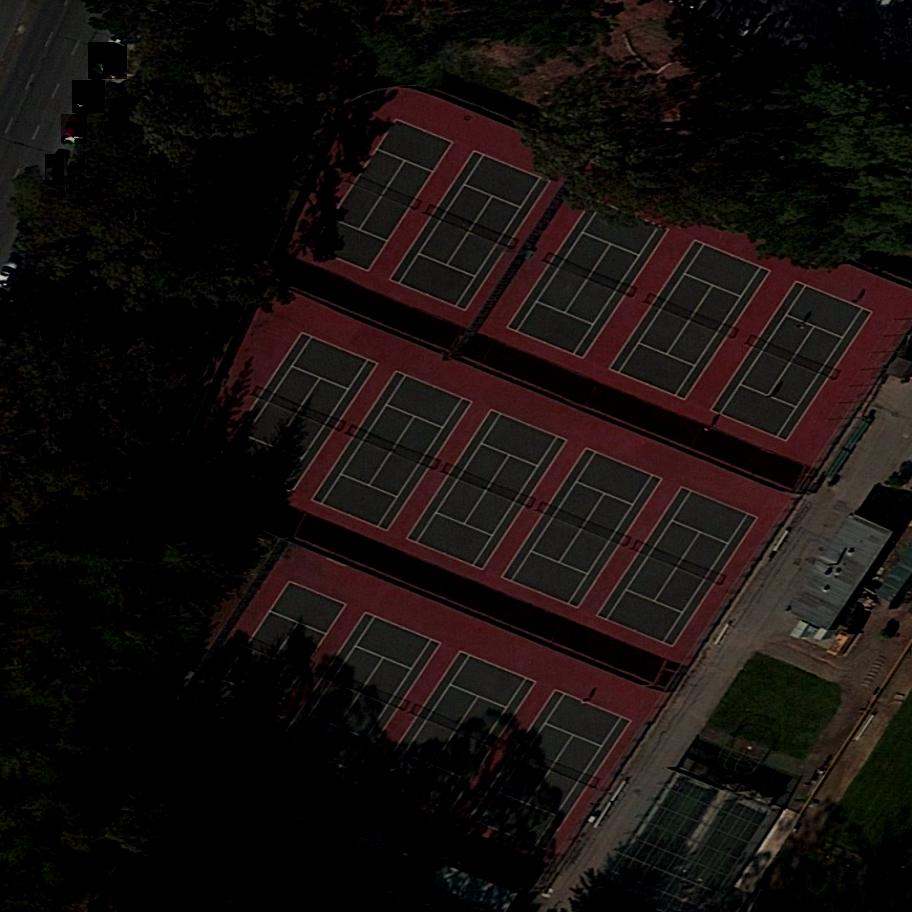small-vehicle: (89, 40, 128, 83), (73, 79, 105, 116), (61, 112, 87, 147), (46, 155, 64, 184)
